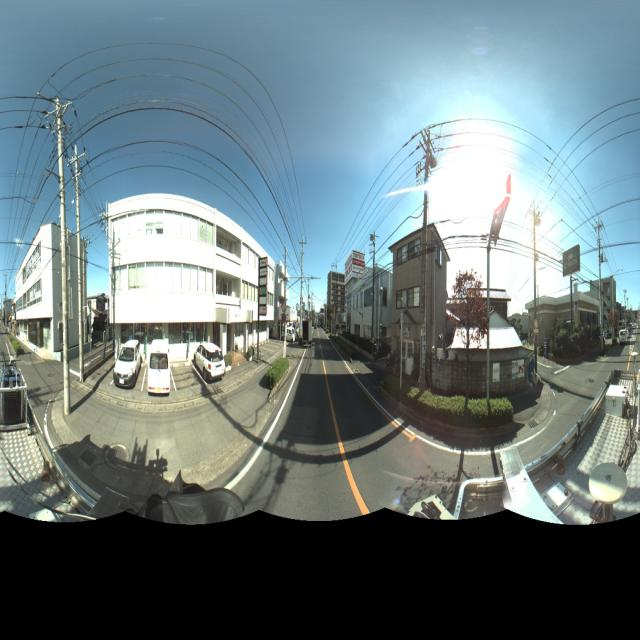b_1: (103, 193, 274, 370), (14, 221, 89, 361), (444, 283, 530, 397), (387, 221, 441, 372), (524, 284, 603, 364), (589, 271, 625, 338), (312, 266, 350, 328), (269, 260, 292, 358)
